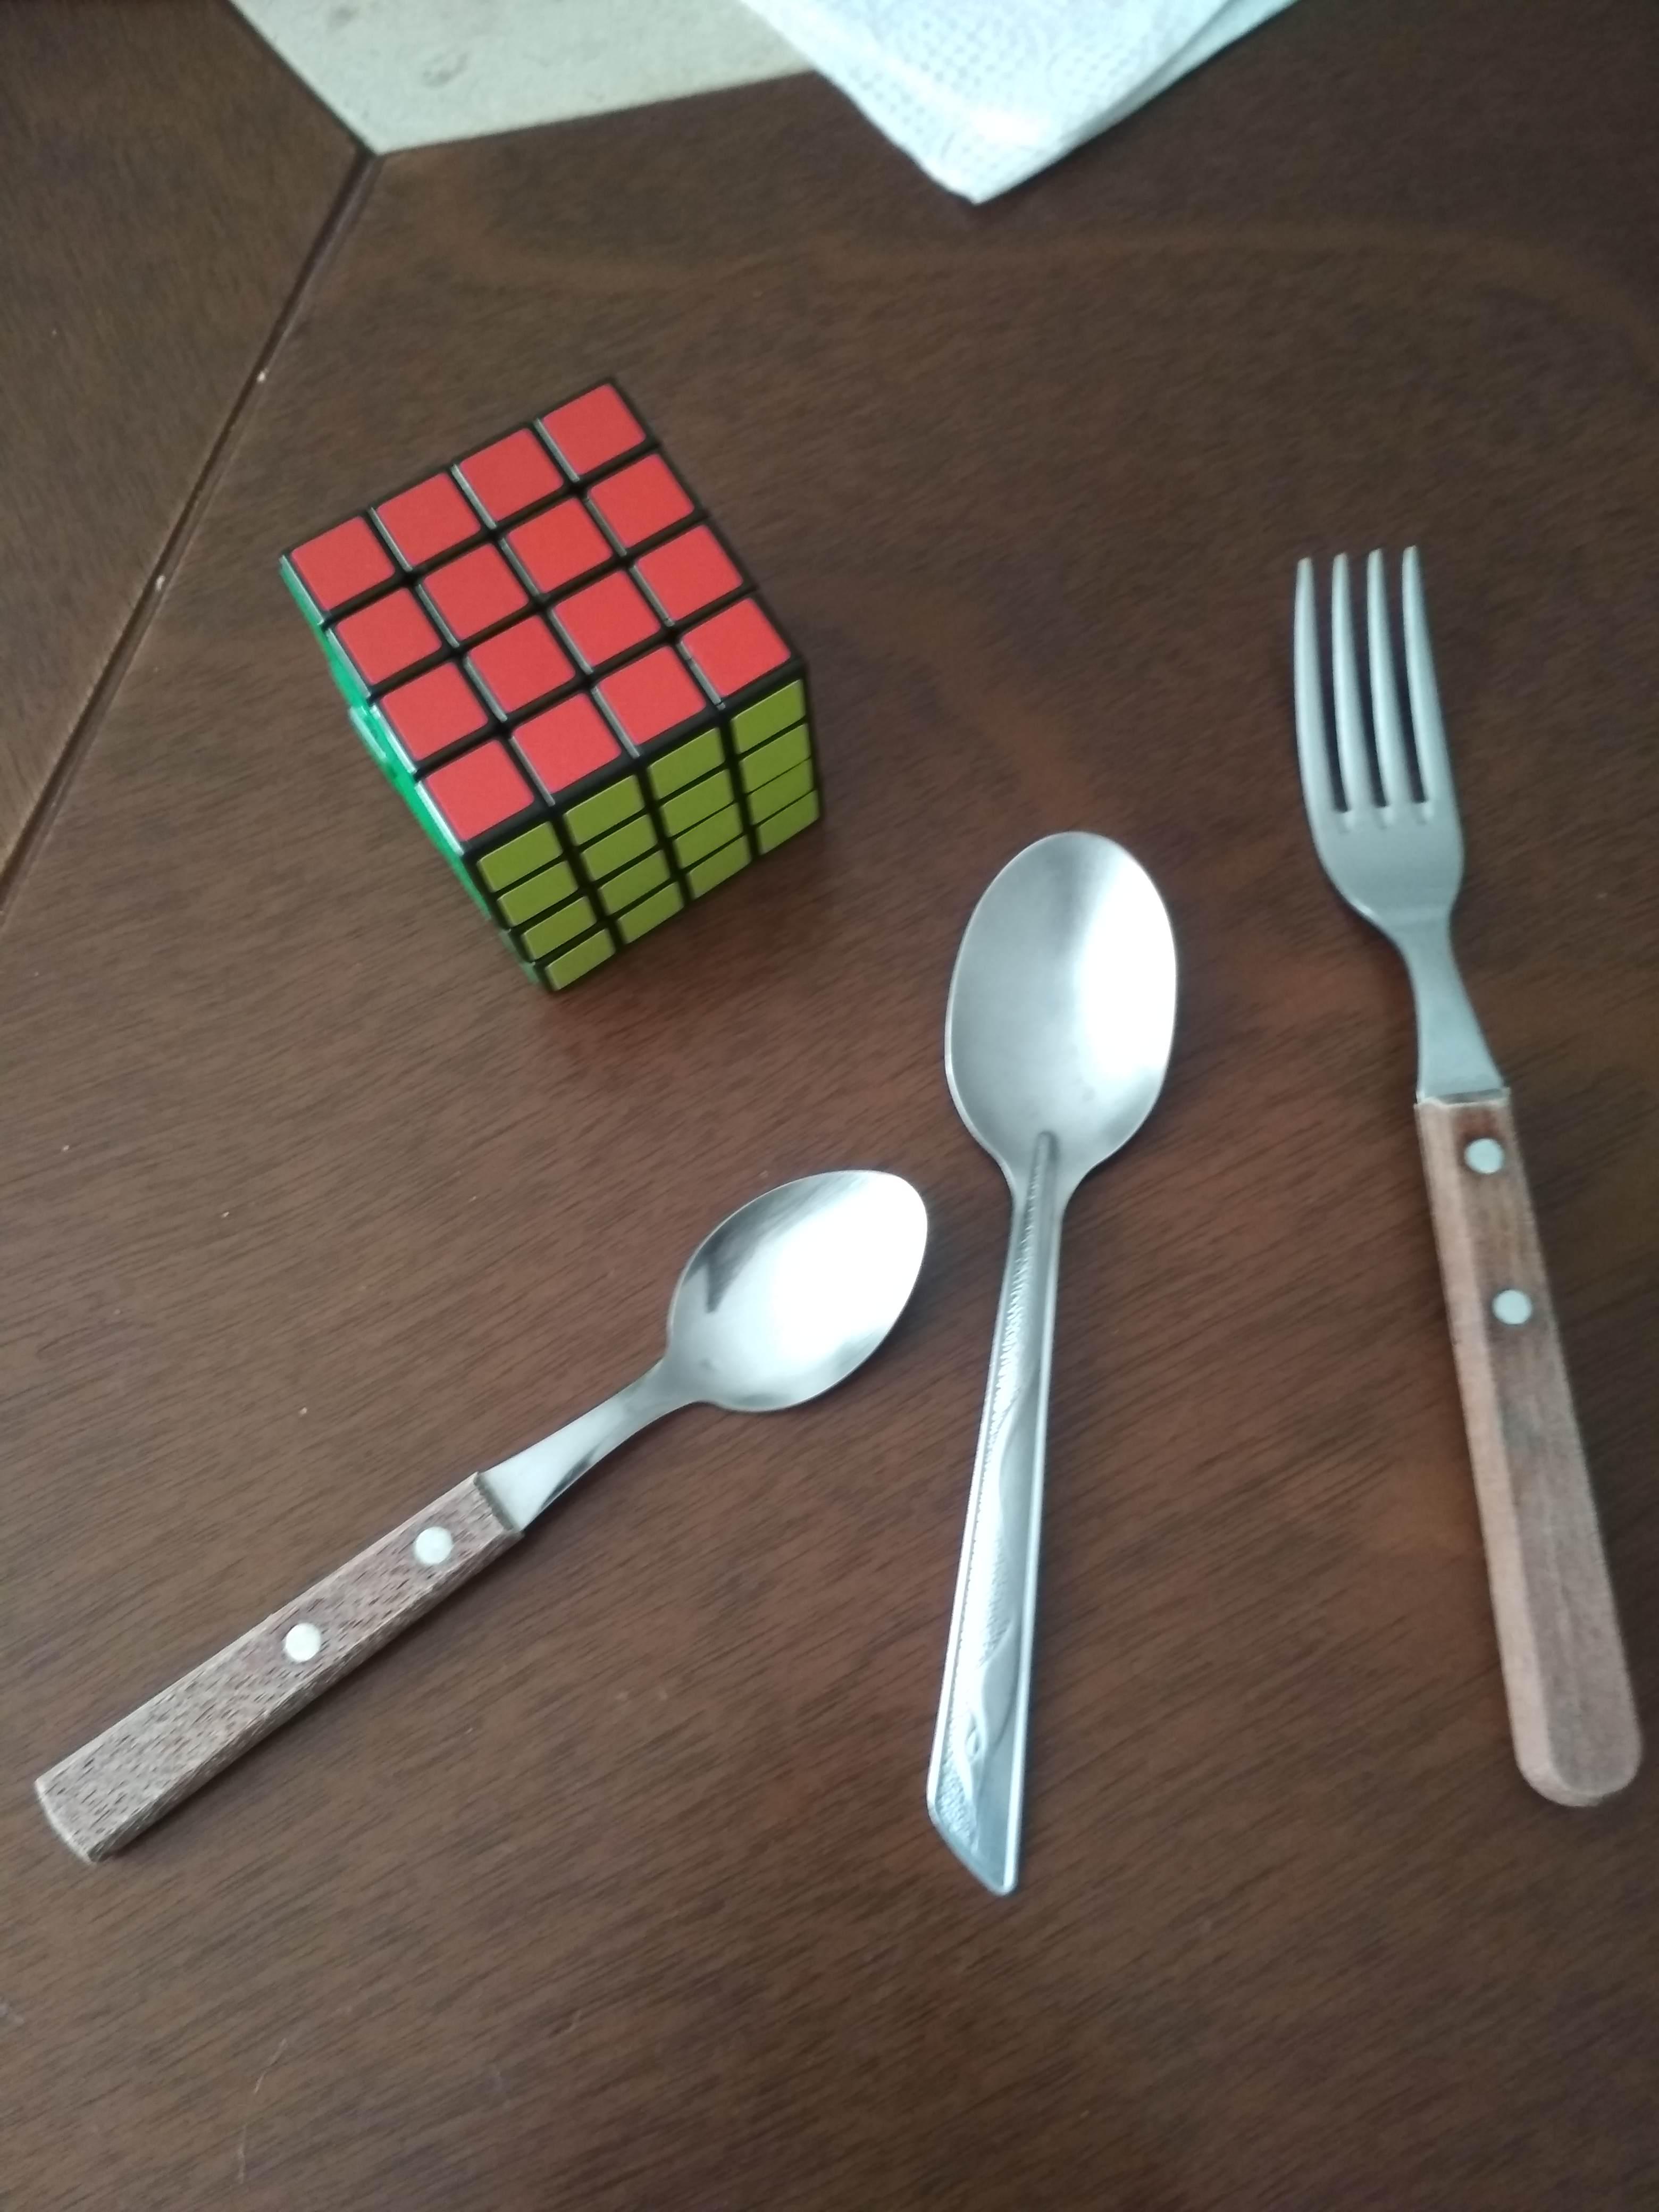fork: (1267, 523, 1657, 1824)
rubik_cube: (247, 352, 857, 1015)
spoon: (17, 1157, 941, 1886), (908, 815, 1195, 1909)
